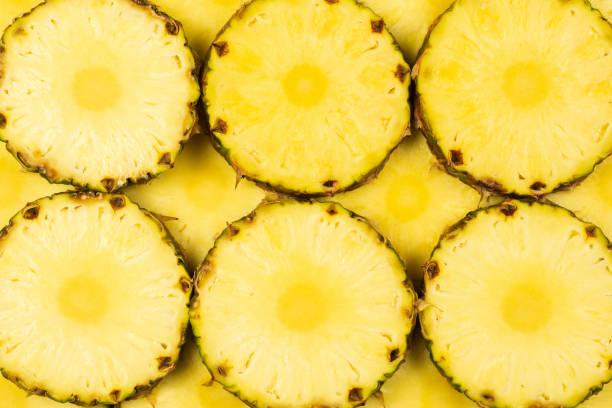pineapple: (198, 193, 420, 408), (0, 191, 196, 408), (202, 0, 413, 200), (422, 197, 612, 408), (415, 2, 612, 200), (0, 0, 203, 191)
